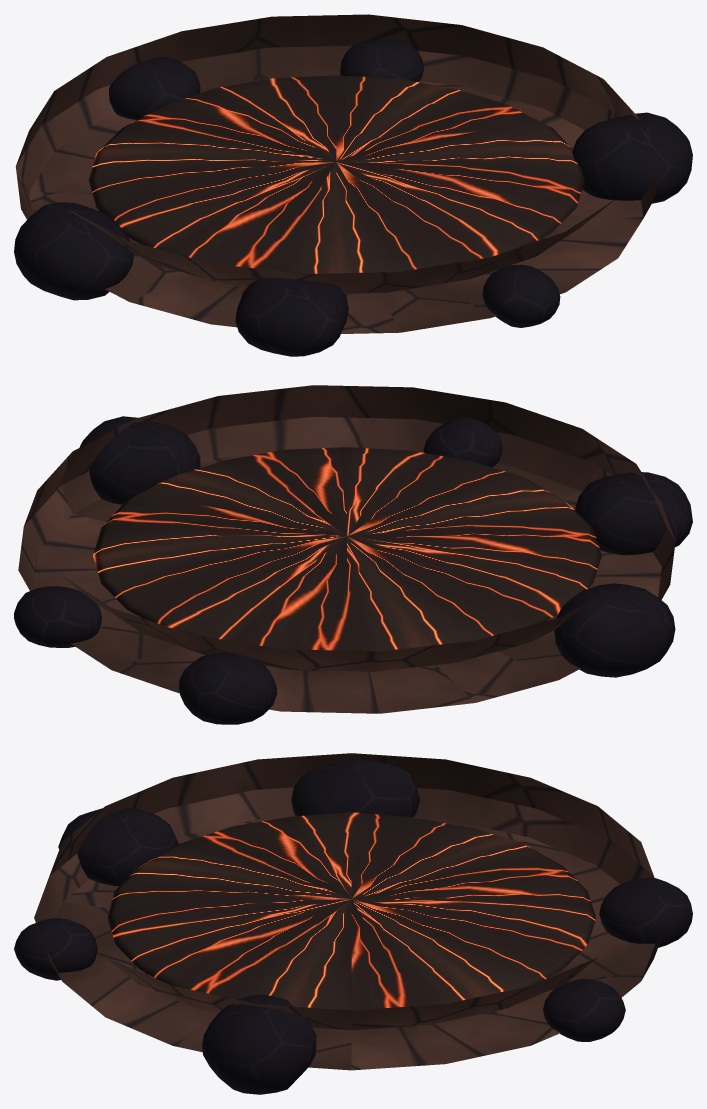
Rendered from lavapool.glb.
The picture shows the model from 3 angles, top to bottom: view 1: azimuth 30°, elevation 25°; view 2: azimuth 150°, elevation 25°; view 3: azimuth 270°, elevation 25°; orthographic projection. The views are drawn at different scales.
Visible parts, largest first — view 1: Base; view 2: Base; view 3: Base.
Boxes of the visible parts, <box> form: Base: <box>14,14,692,356</box>; Base: <box>14,385,692,724</box>; Base: <box>14,753,692,1094</box>.
Size of the model in its own units: 1.06 by 0.1386 by 1.03.
3 materials, 3 textured.
